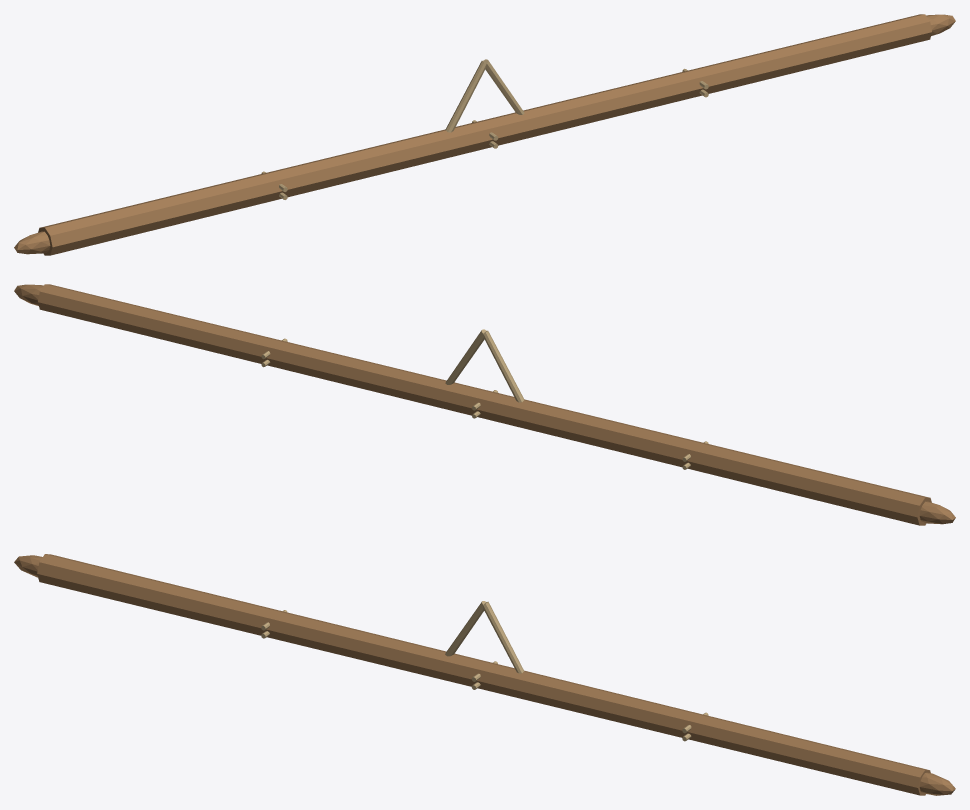
The picture shows the model from 3 angles, top to bottom: view 1: azimuth 30°, elevation 25°; view 2: azimuth 150°, elevation 25°; view 3: azimuth 330°, elevation 25°; orthographic projection.
Visible parts, largest first — view 1: CE-047 Sail yard and central suspension sling batched; view 2: CE-047 Sail yard and central suspension sling batched; view 3: CE-047 Sail yard and central suspension sling batched.
Boxes of the visible parts, left/top/right/bottom form: CE-047 Sail yard and central suspension sling batched: left=14, top=14, right=955, bottom=255; CE-047 Sail yard and central suspension sling batched: left=14, top=284, right=955, bottom=525; CE-047 Sail yard and central suspension sling batched: left=14, top=554, right=955, bottom=795.
Size of the model in its own units: 2.45 by 0.2198 by 0.1.
